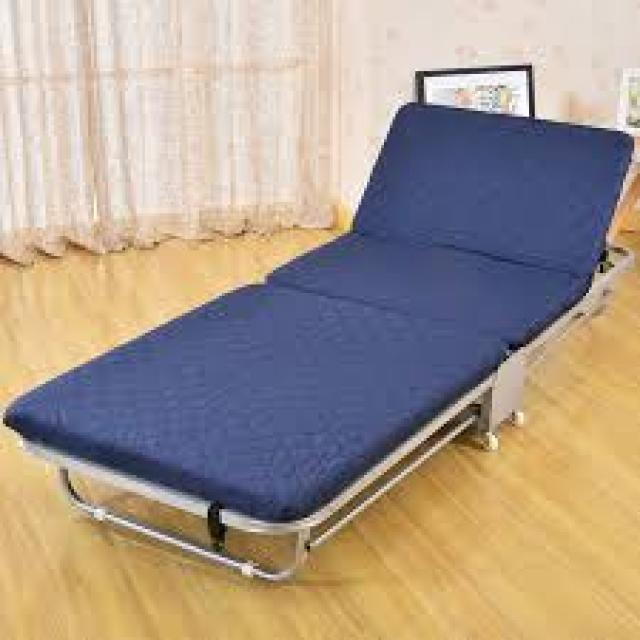bed: (0, 96, 637, 584)
